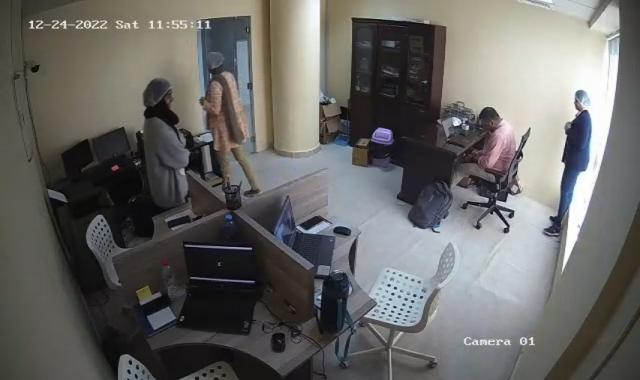hairnet: (140, 76, 175, 113), (571, 86, 592, 114), (203, 52, 224, 74)
no_hairnet: (475, 106, 503, 134)
